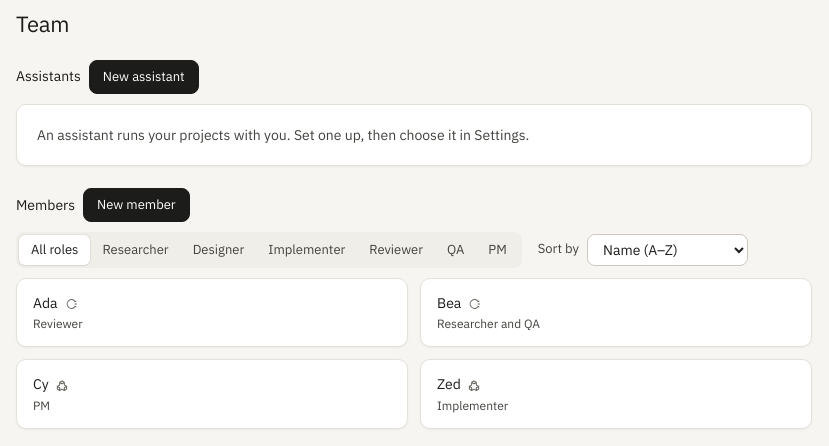
Scenario: TeamPage members › says so when no member holds the role shown
Click the button "Designer" at (218, 250), box x1=181 y1=235 x2=256 y2=265
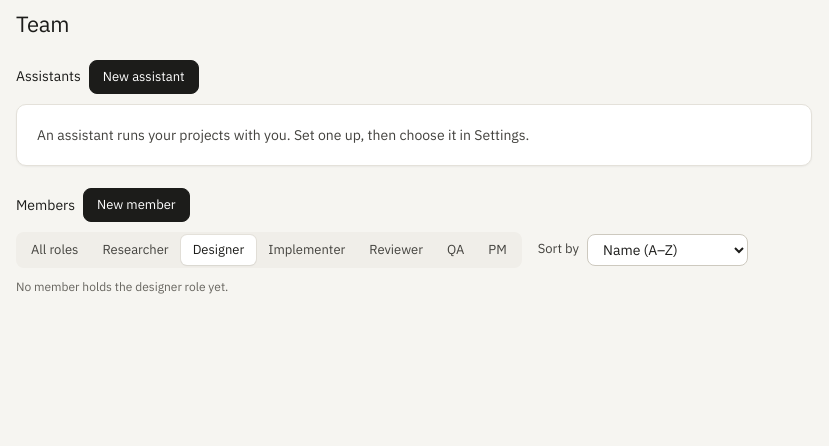
Expected: the text "No member holds the designer role yet." is shown, x1=16 y1=279 x2=228 y2=294
